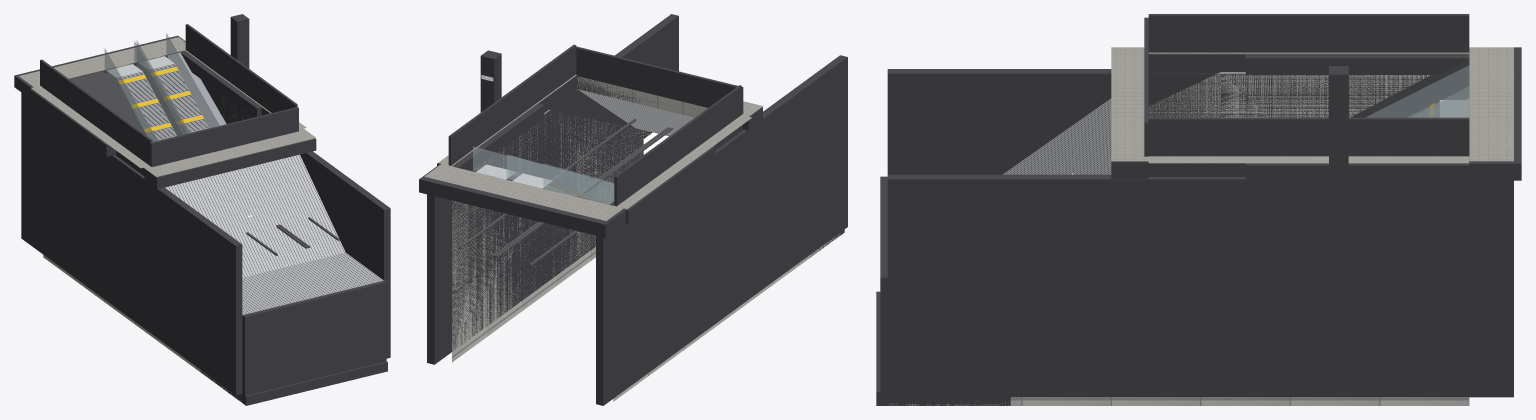
Rendered from wl80-r3-game-metro-assets-exit_longxiangqiao_a.glb.
The picture shows the model from 3 angles, left to right: view 1: azimuth 30°, elevation 25°; view 2: azimuth 150°, elevation 25°; view 3: azimuth 270°, elevation 25°; orthographic projection. The views are drawn at different scales.
Parts seen in each view (by area): view 1: ex_col, ex_shaft, landing_cap_col, ex_kiosk; view 2: ex_col, ex_shaft, ex_kiosk; view 3: ex_col, ex_shaft, ex_kiosk, landing_cap_col.
Part boxes in pixels (x1,y1,x2,y2): ex_col: (14, 14, 390, 405); ex_shaft: (43, 33, 383, 401); landing_cap_col: (242, 280, 386, 395); ex_kiosk: (19, 37, 315, 176); ex_col: (419, 14, 847, 405); ex_shaft: (452, 76, 840, 401); ex_kiosk: (424, 74, 762, 220); ex_col: (876, 14, 1521, 405); ex_shaft: (887, 65, 1469, 405); ex_kiosk: (1111, 47, 1513, 163); landing_cap_col: (880, 176, 887, 392).
Size of the model in its own units: 7.74 by 10.15 by 17.3.
15 materials, 7 textured.
